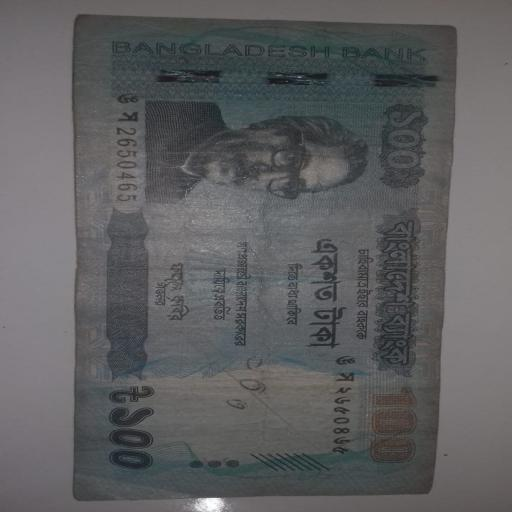100taka: (64, 15, 469, 504)
